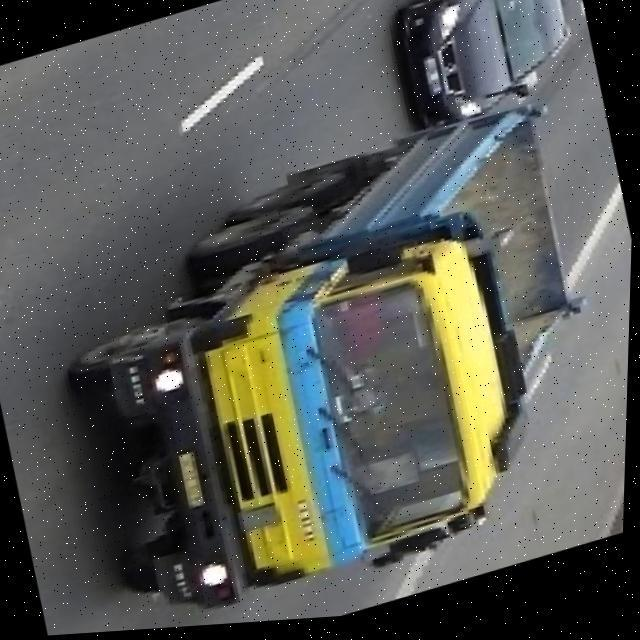truck: (34, 92, 637, 638)
